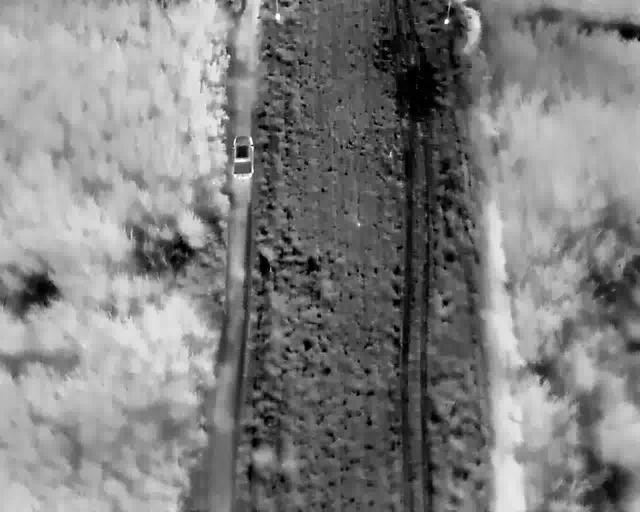car: (231, 136, 253, 180)
